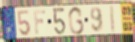5: (16, 9, 32, 37), (51, 7, 66, 36)
9: (90, 6, 104, 34)
F: (33, 10, 47, 36)
G: (68, 5, 85, 36)
I: (110, 4, 116, 35)
